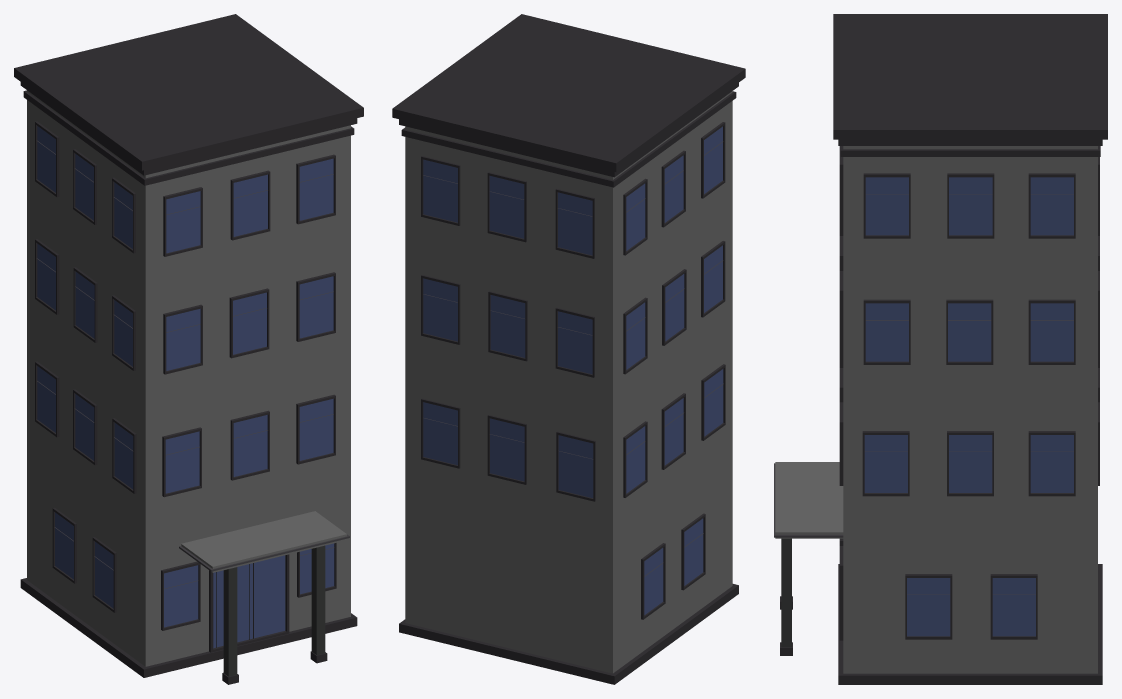
The model's file is gedung-kantor.glb.
3 renders of one model, left to right at view 1: azimuth 30°, elevation 25°; view 2: azimuth 150°, elevation 25°; view 3: azimuth 270°, elevation 25°, orthographic. The views are drawn at different scales.
Parts seen in each view (by area): view 1: Cube, Cube.001, Cube.003, Cube.049; view 2: Cube, Cube.001, Cube.003; view 3: Cube, Cube.001, Cube.003, Cube.049.
Boxes of the visible parts, left/top/right/bottom form: Cube: left=27, top=90, right=350, bottom=666; Cube.001: left=14, top=14, right=363, bottom=684; Cube.003: left=37, top=126, right=349, bottom=648; Cube.049: left=223, top=545, right=325, bottom=676; Cube: left=405, top=91, right=732, bottom=673; Cube.001: left=392, top=14, right=745, bottom=684; Cube.003: left=423, top=126, right=723, bottom=614; Cube: left=775, top=146, right=1097, bottom=673; Cube.001: left=780, top=14, right=1107, bottom=684; Cube.003: left=774, top=177, right=1073, bottom=636; Cube.049: left=781, top=538, right=791, bottom=647.
Bounding box in the file's own units: 4.36 × 9.77 × 5.3.
